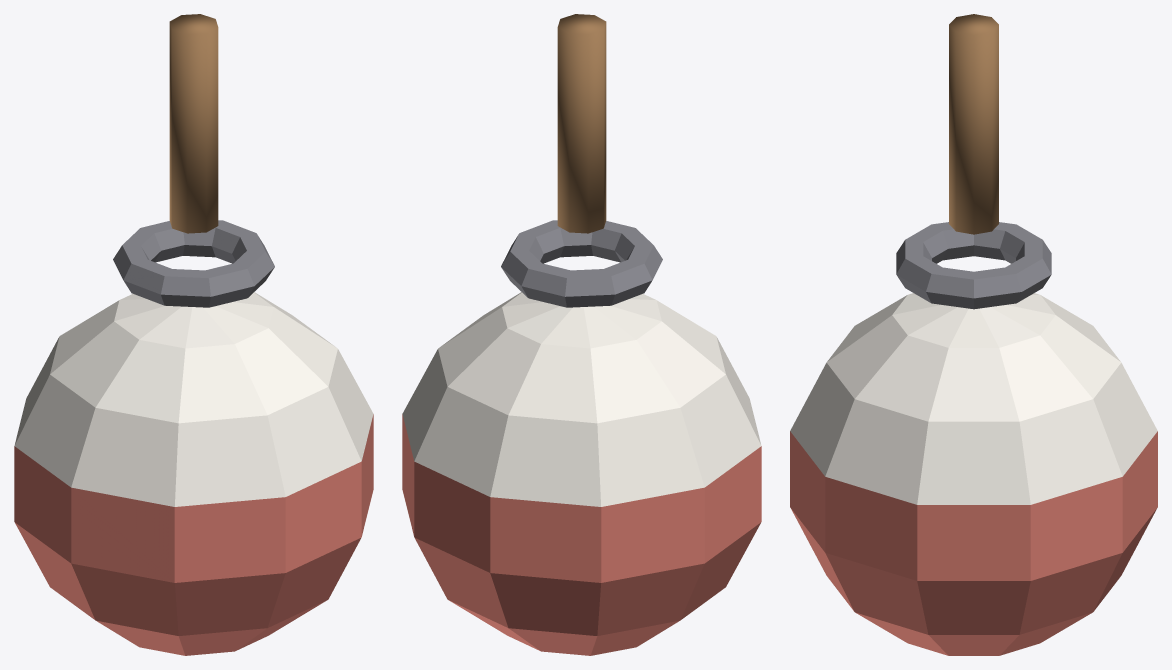
The model's file is ASTX_PROP_BUOY.glb.
3 renders of one model, left to right at view 1: azimuth 30°, elevation 25°; view 2: azimuth 150°, elevation 25°; view 3: azimuth 270°, elevation 25°, orthographic.
Parts seen in each view (by area): view 1: ASTX_PROP_BUOY_body, ASTX_PROP_BUOY_tip, ASTX_PROP_BUOY_ring; view 2: ASTX_PROP_BUOY_body, ASTX_PROP_BUOY_tip, ASTX_PROP_BUOY_ring; view 3: ASTX_PROP_BUOY_body, ASTX_PROP_BUOY_tip, ASTX_PROP_BUOY_ring.
Part boxes in pixels (box(x1,y1,x2,y2)): ASTX_PROP_BUOY_body: box(14, 292, 373, 655); ASTX_PROP_BUOY_tip: box(169, 14, 218, 233); ASTX_PROP_BUOY_ring: box(113, 220, 274, 307); ASTX_PROP_BUOY_body: box(402, 292, 761, 655); ASTX_PROP_BUOY_tip: box(557, 14, 606, 233); ASTX_PROP_BUOY_ring: box(501, 220, 662, 307); ASTX_PROP_BUOY_body: box(790, 293, 1157, 655); ASTX_PROP_BUOY_tip: box(949, 14, 998, 234); ASTX_PROP_BUOY_ring: box(896, 222, 1051, 309).
Size of the model in its own units: 0.5563 by 1.08 by 0.585.
